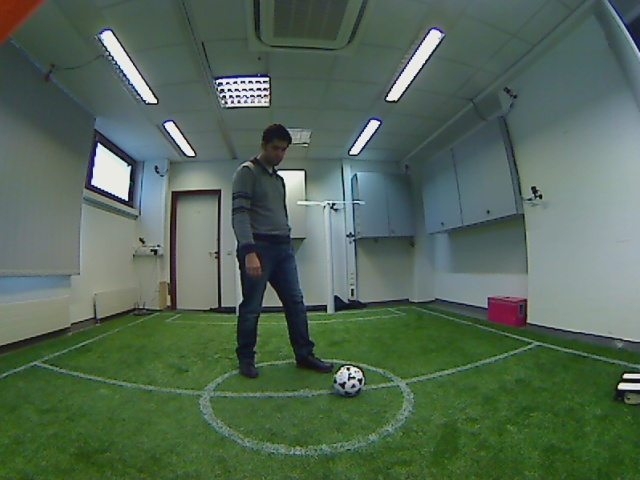ball: (324, 358, 375, 405)
